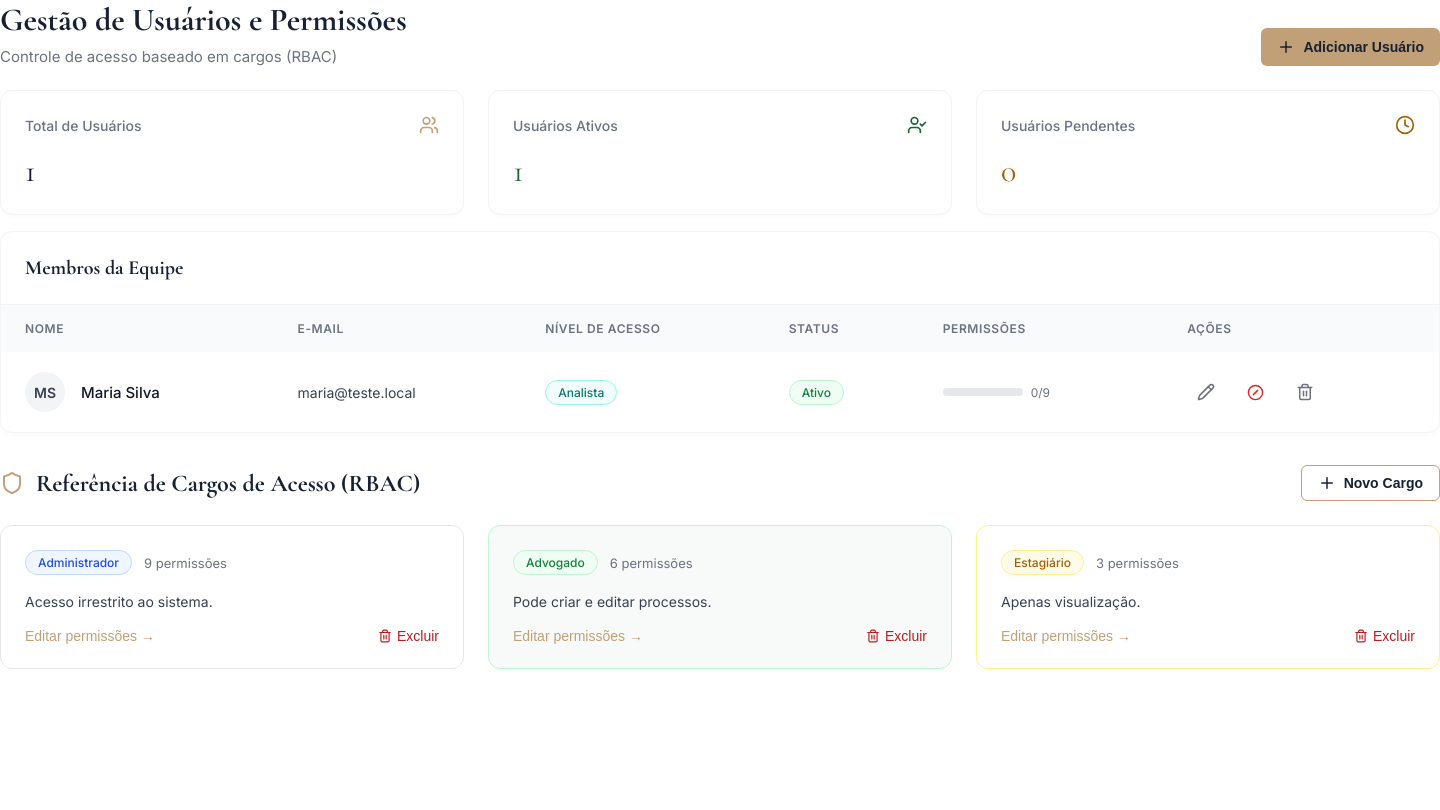
Test: integração da página de equipe › exclui o membro após confirmação no modal
Click the button titled "Excluir usuário": (1305, 392) [1286,375,1324,409]
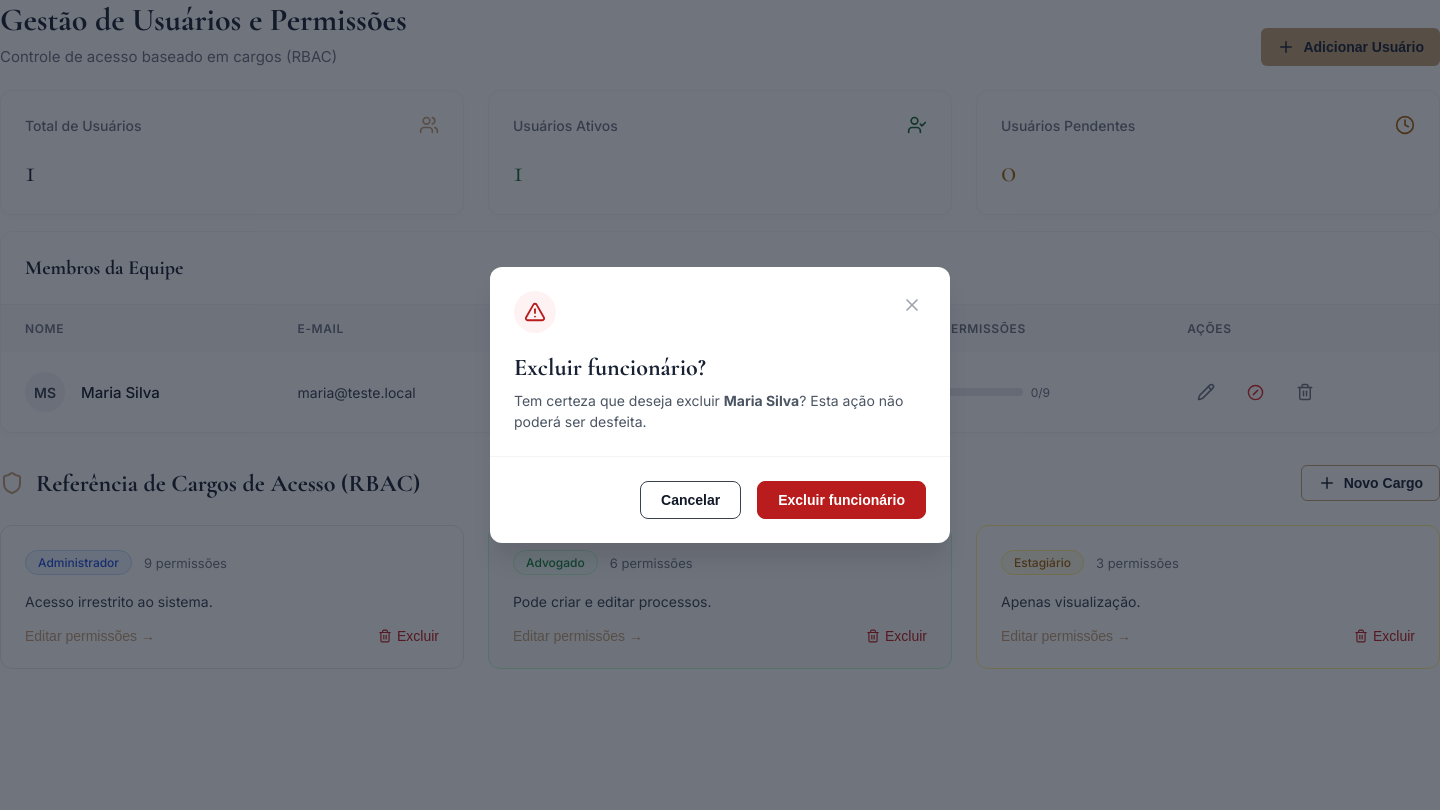
Click the button "Excluir funcionário": (842, 500) [757,481,926,519]
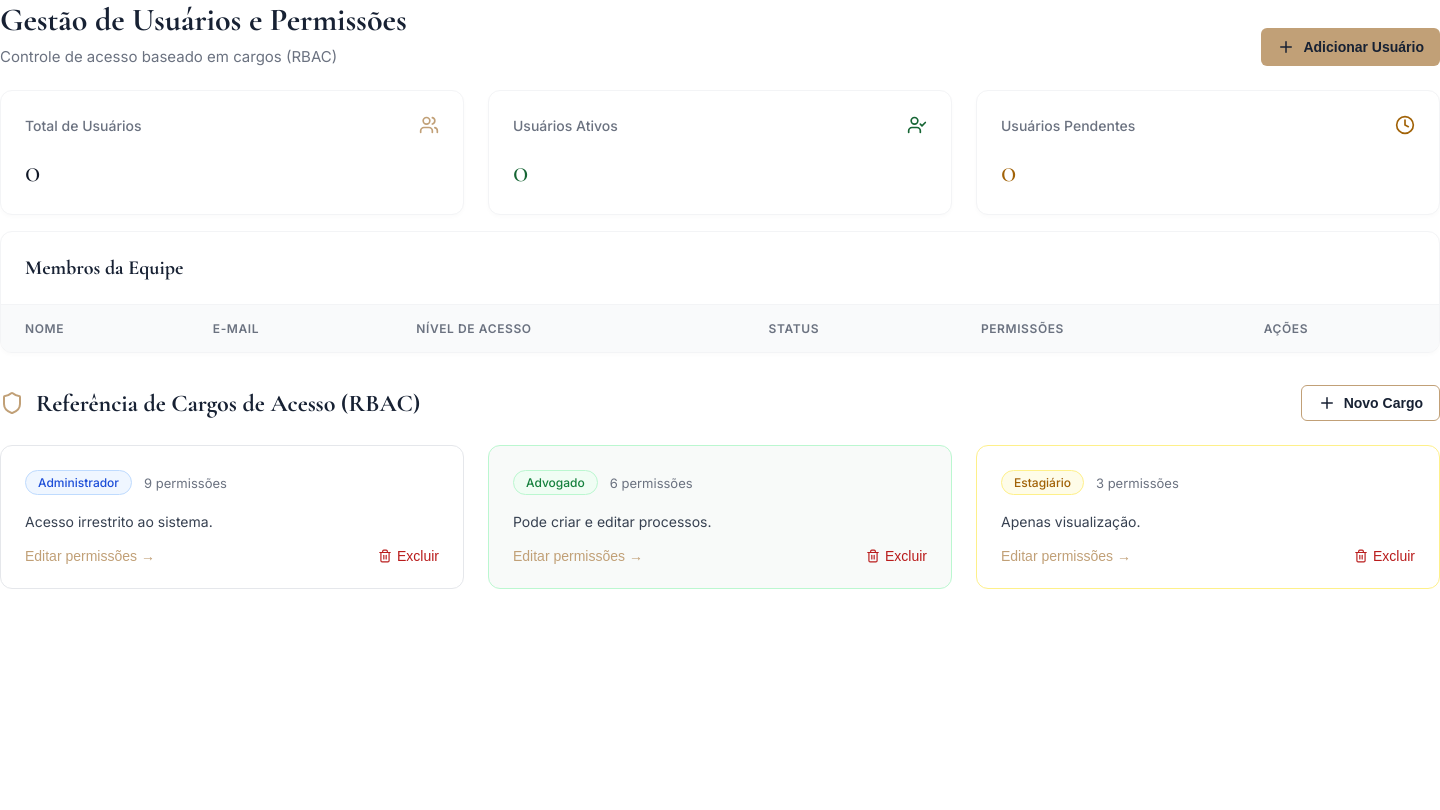
Result: the text "Maria Silva" is gone
